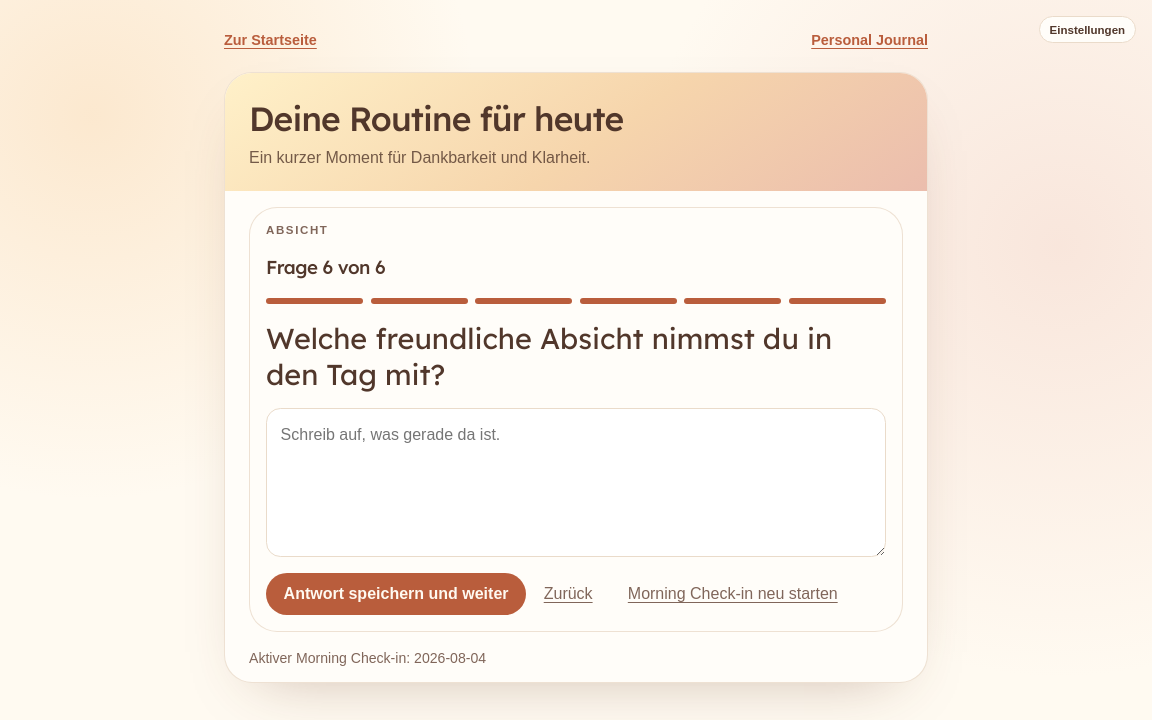
Test: direct Morning Check-in route completes the current check-in
The image size is (1152, 720).
Click the button "Antwort speichern und weiter": (396, 594) [266,573,526,615]
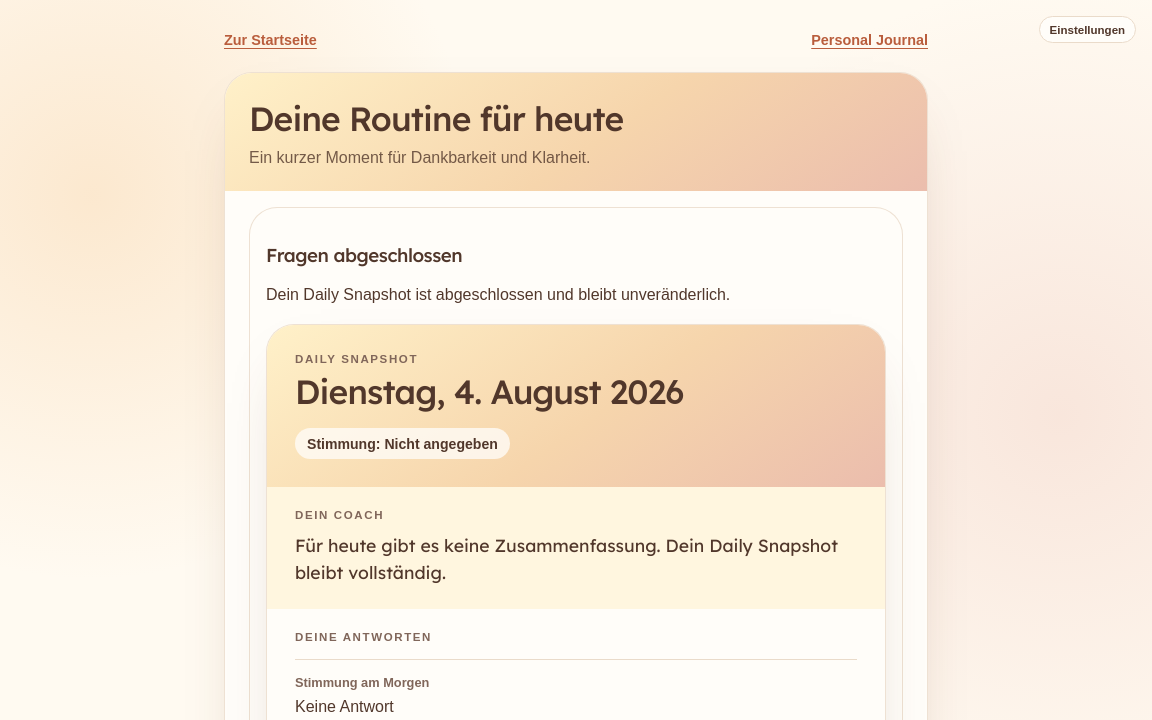
Expected: the text "Dein Daily Snapshot ist abgeschlossen und bleibt unveränderlich." is shown, [266,286,730,303]
